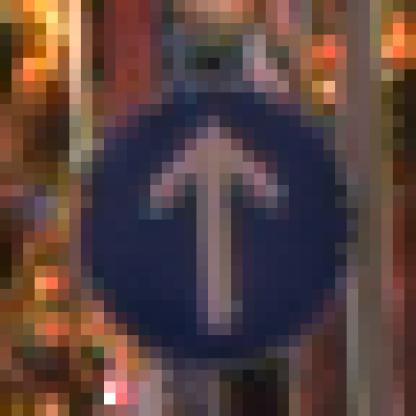AheadOnly: (71, 71, 360, 360)
